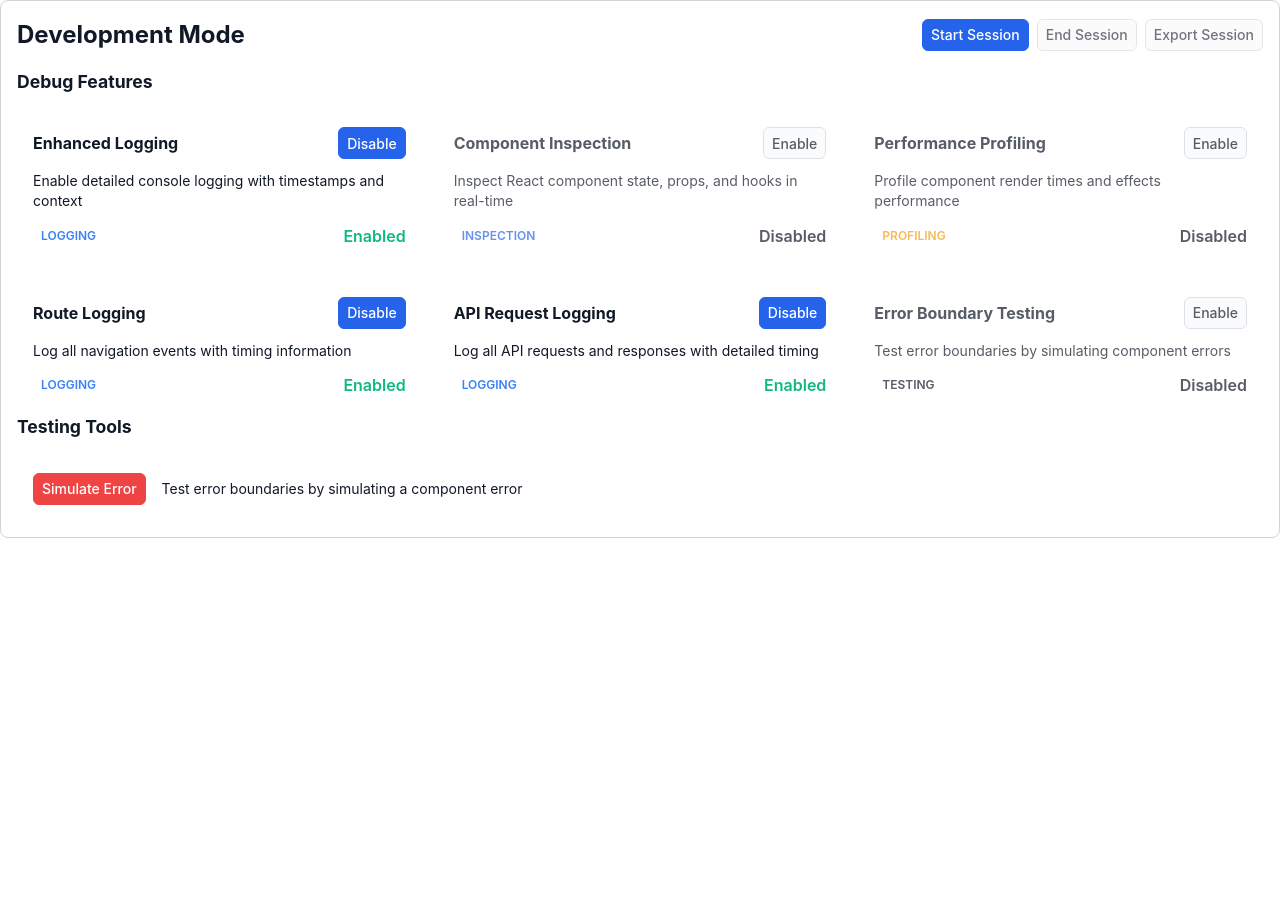
DevMode Component › shows performance profiling when enabled
The image size is (1280, 900).
Enable performance profiling
Click the 2nd button "Enable" at coordinates (1215, 143), box x1=1184 y1=127 x2=1247 y2=159
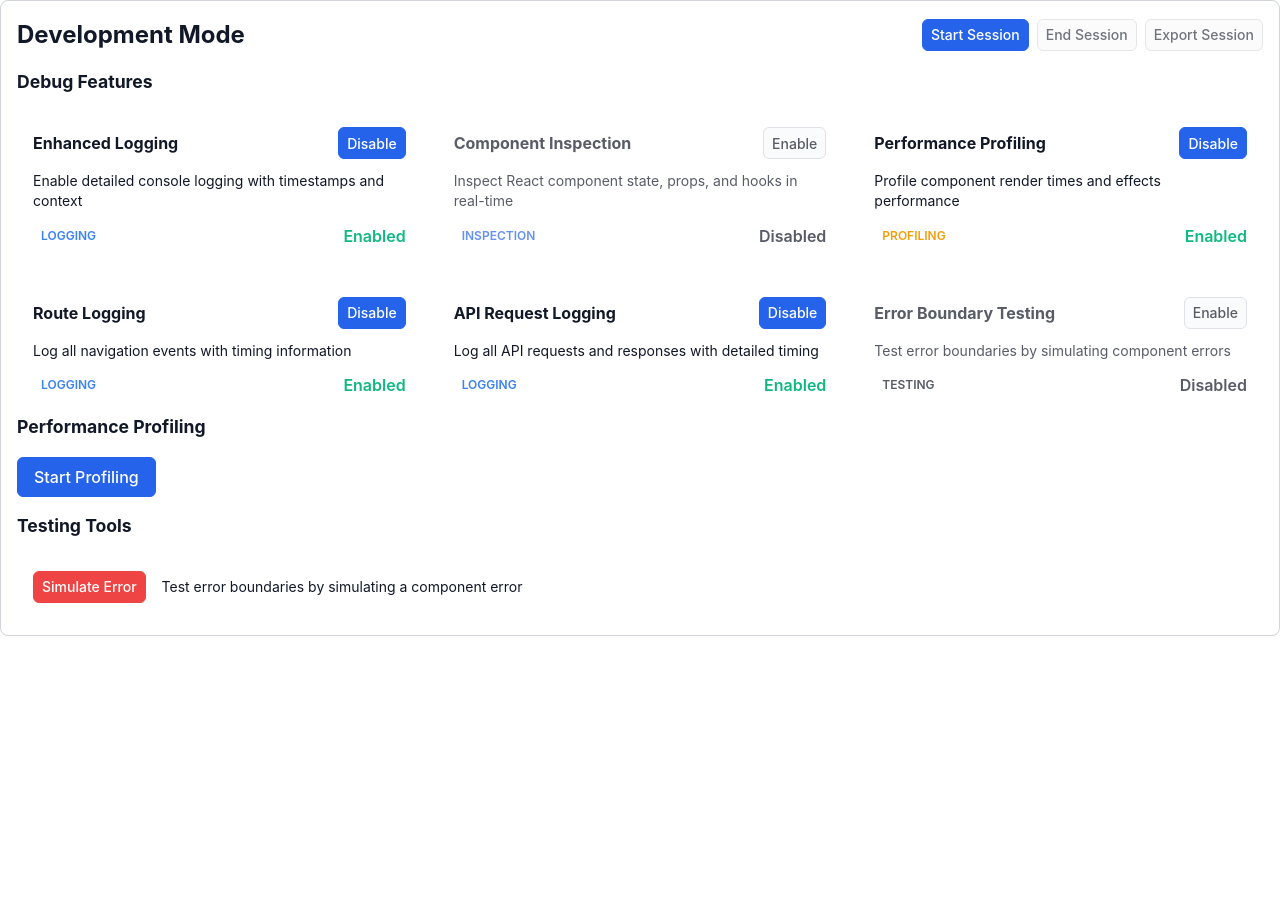
Expected: the 2nd heading "Performance Profiling" is shown, x1=17 y1=416 x2=206 y2=437
